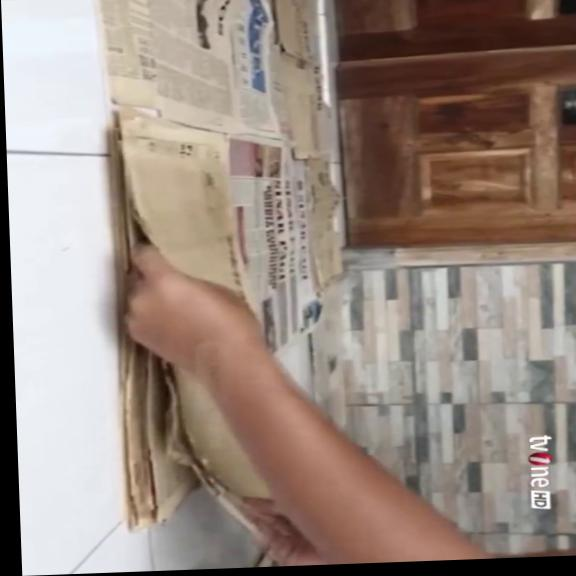Kertas: (112, 0, 321, 224)
